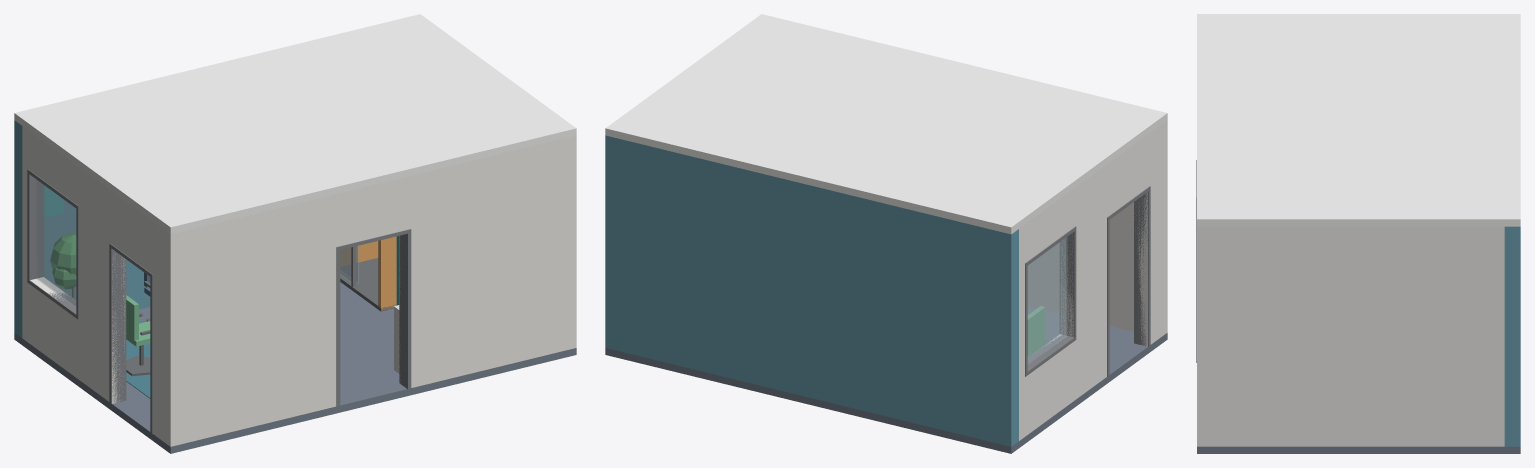
3 renders of one model, left to right at view 1: azimuth 30°, elevation 25°; view 2: azimuth 150°, elevation 25°; view 3: azimuth 270°, elevation 25°, orthographic. The views are drawn at different scales.
Parts seen in each view (by area): view 1: Wall_S, Ceiling, Wall_W, Floor, Frames_W, Wall_N, PhoneBooth_02, Frames_S, Chair_04, Plant, Rug; view 2: Wall_N, Ceiling, Wall_W, Frames_W, Wall_S, Floor, Chair_04; view 3: Ceiling, Wall_E, Wall_N, Wall_S, Floor.
Part boxes in pixels (x1,y1,x2,y2): Wall_S: (163,135,576,446); Ceiling: (14,14,576,234); Wall_W: (22,126,162,440); Floor: (14,282,576,453); Frames_W: (27,169,152,433); Wall_N: (14,120,150,337); PhoneBooth_02: (340,236,396,311); Frames_S: (336,229,411,406); Chair_04: (126,295,150,376); Plant: (50,233,76,297); Rug: (126,320,150,398); Wall_N: (605,135,1018,446); Ceiling: (605,14,1167,234); Wall_W: (1019,126,1159,440); Frames_W: (1025,186,1150,376); Wall_S: (1027,120,1167,337); Floor: (605,306,1167,453); Chair_04: (1027,306,1045,356); Ceiling: (1197,14,1520,226); Wall_E: (1213,226,1504,446); Wall_N: (1504,226,1520,446); Wall_S: (1197,226,1213,446); Floor: (1197,446,1520,453).
Bounding box in the file's own units: 6.01 × 3.2 × 4.01.
